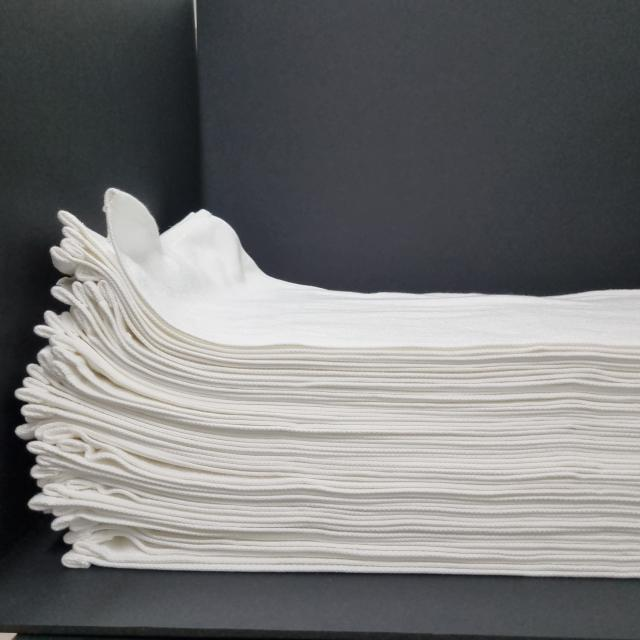50_towel_counts: (0, 186, 640, 583)
